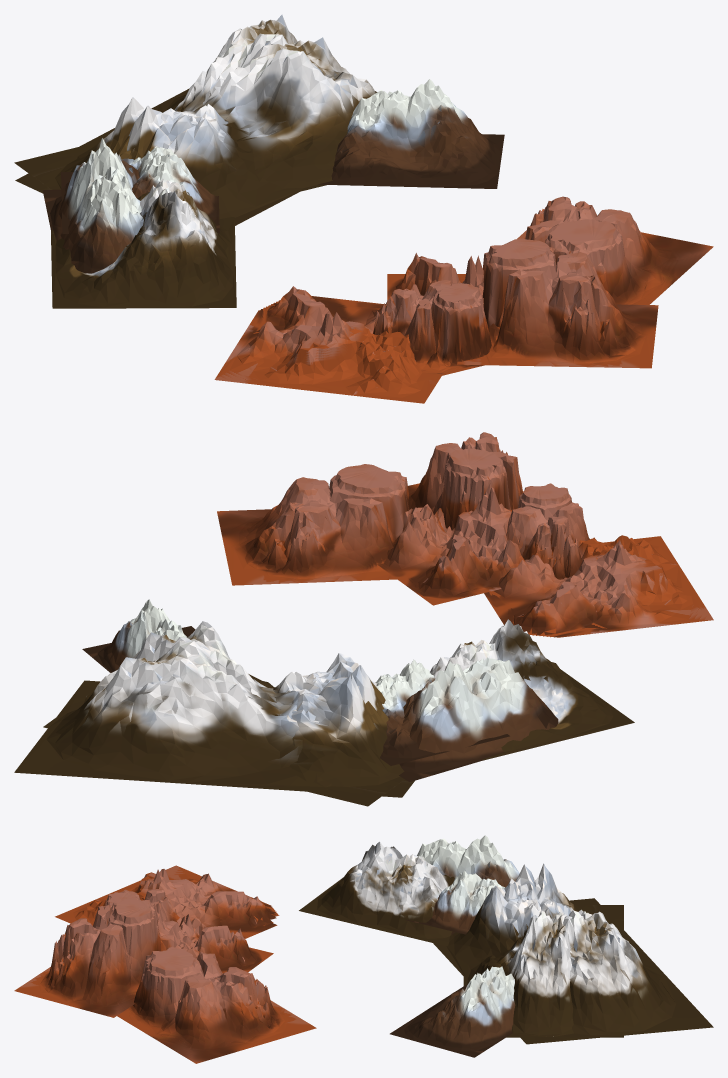
The model's file is Mountains.fbx.
The picture shows the model from 3 angles, top to bottom: view 1: azimuth 30°, elevation 25°; view 2: azimuth 150°, elevation 25°; view 3: azimuth 270°, elevation 25°; orthographic projection. The views are drawn at different scales.
Parts seen in each view (by area): view 1: Landscape.010, Landscape.008, Landscape.009, Landscape.004, Landscape.005, Landscape.017, Landscape.006, Landscape.002, Landscape, Landscape.001, Landscape.007; view 2: Landscape.017, Landscape.006, Landscape.009, Landscape.010, Landscape.002, Landscape.007, Landscape.004, Landscape.008, Landscape, Landscape.001, Landscape.005; view 3: Landscape.017, Landscape.006, Landscape.008, Landscape.010, Landscape.004, Landscape.005, Landscape.009, Landscape.007, Landscape.002, Landscape.001, Landscape.
Part boxes in pixels (box(x1,y1,x2,y2)): Landscape.010: box(14, 37, 375, 192); Landscape.008: box(457, 238, 658, 368); Landscape.009: box(214, 286, 441, 403); Landscape.004: box(51, 179, 236, 308); Landscape.005: box(318, 79, 504, 188); Landscape.017: box(15, 14, 376, 225); Landscape.006: box(517, 196, 713, 304); Landscape.002: box(42, 138, 143, 273); Landscape: box(373, 280, 491, 381); Landscape.001: box(61, 146, 219, 233); Landscape.007: box(387, 253, 483, 305); Landscape.017: box(14, 637, 414, 797); Landscape.006: box(217, 464, 410, 585); Landscape.009: box(484, 535, 713, 637); Landscape.010: box(43, 621, 404, 806); Landscape.002: box(399, 657, 558, 781); Landscape.007: box(377, 483, 525, 605); Landscape.004: box(430, 619, 634, 760); Landscape.008: box(408, 432, 523, 530); Landscape: box(506, 483, 607, 579); Landscape.001: box(375, 659, 509, 765); Landscape.005: box(82, 599, 195, 672); Landscape.017: box(433, 864, 713, 1044); Landscape.006: box(117, 946, 316, 1063); Landscape.008: box(14, 896, 160, 1017); Landscape.010: box(463, 863, 623, 1037); Landscape.004: box(299, 841, 454, 946); Landscape.005: box(390, 966, 515, 1057); Landscape.009: box(55, 865, 279, 938); Landscape.007: box(153, 903, 273, 973); Landscape.002: box(417, 835, 519, 934); Landscape.001: box(405, 870, 504, 934); Landscape: box(91, 889, 179, 925).
Size of the model in its own units: 17817 by 3052 by 24737.
4 materials, 4 textured.
